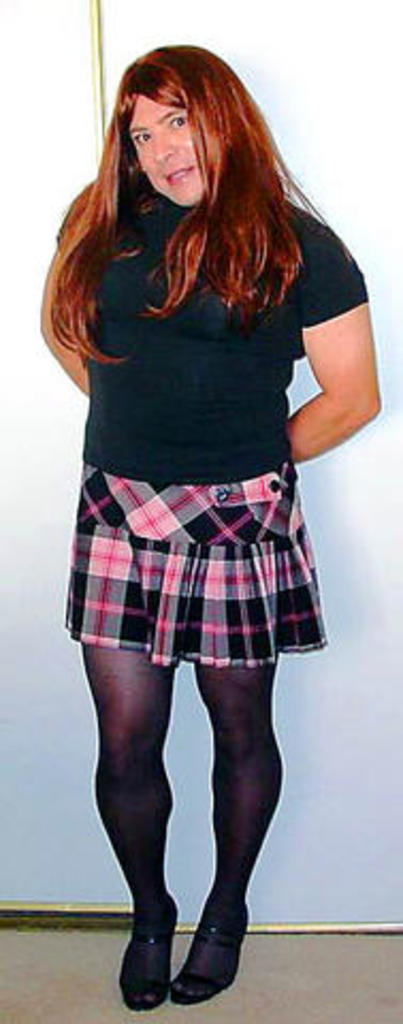face: (133, 72, 206, 217)
